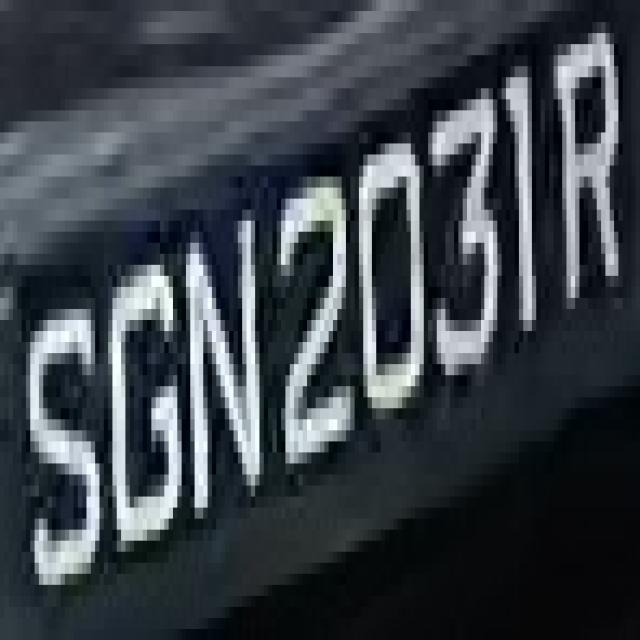0: (342, 122, 436, 474)
1: (497, 44, 545, 386)
2: (268, 177, 355, 508)
3: (419, 66, 506, 408)
G: (112, 210, 178, 584)
N: (169, 198, 268, 552)
R: (554, 33, 632, 331)
S: (13, 276, 104, 596)
